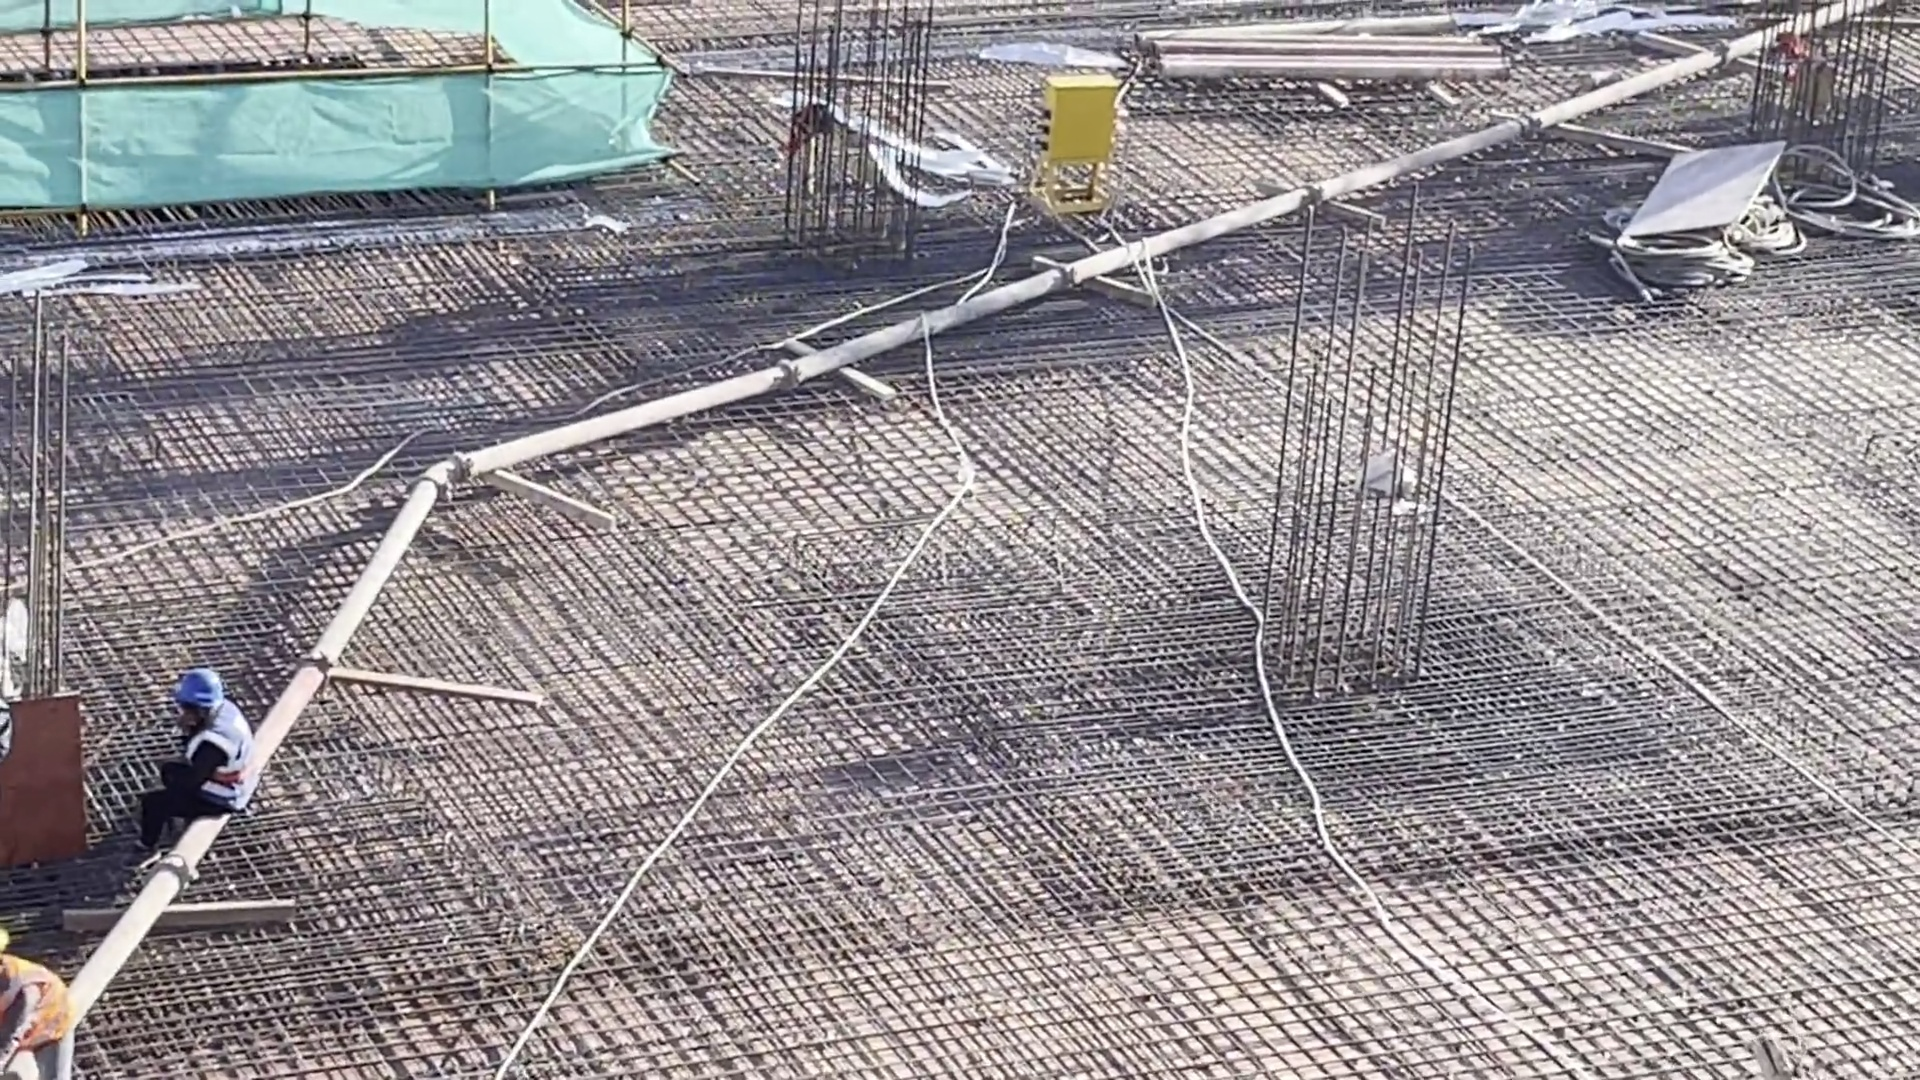ebox: (1033, 80, 1115, 172)
helmet: (180, 670, 228, 709)
person: (136, 667, 254, 855), (1, 915, 80, 1080)
vest: (171, 717, 254, 813), (1, 957, 74, 1041)
